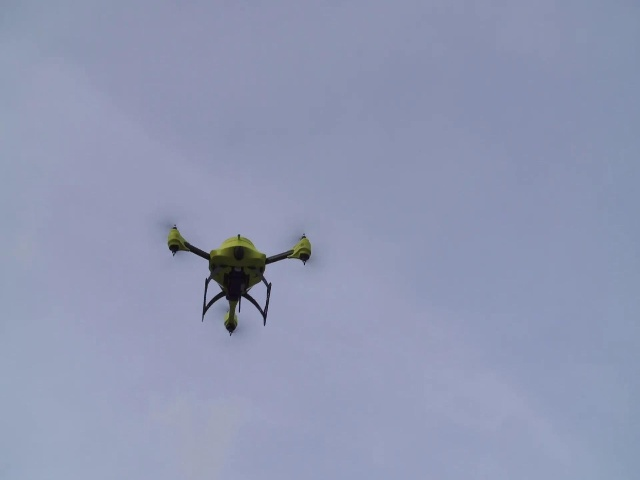drone: (157, 217, 317, 340)
